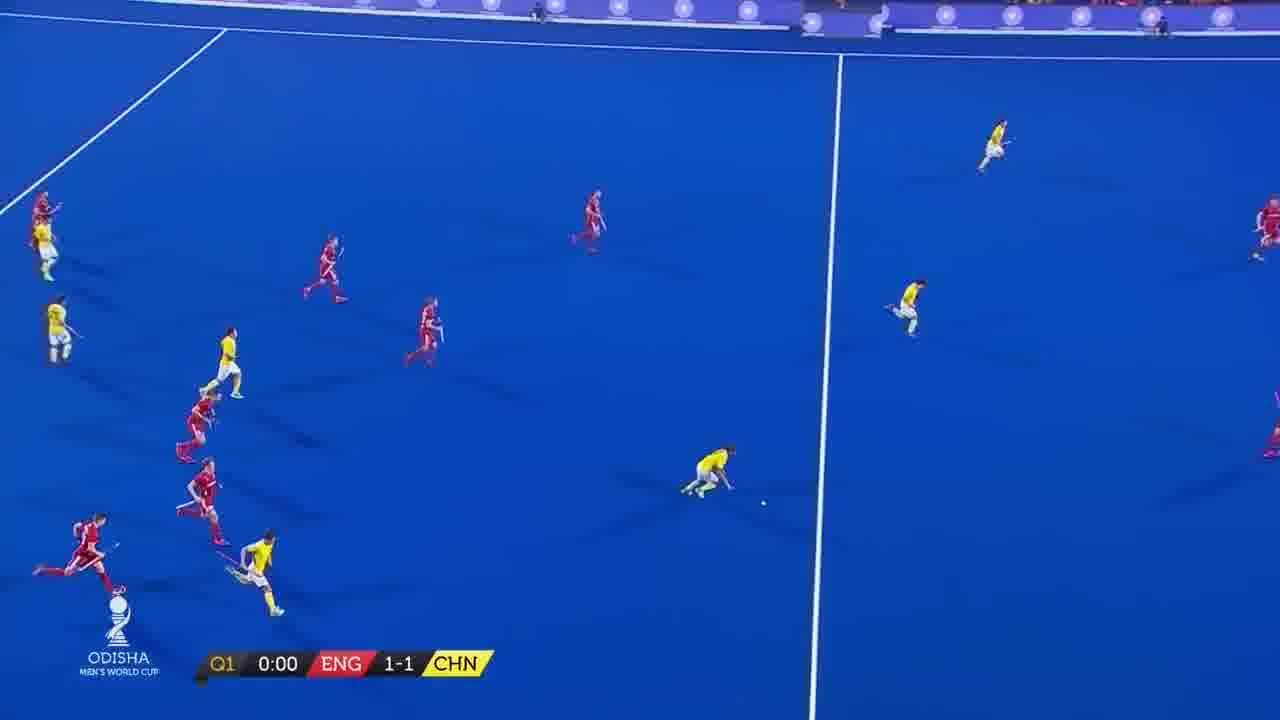ball: (755, 496, 772, 510)
